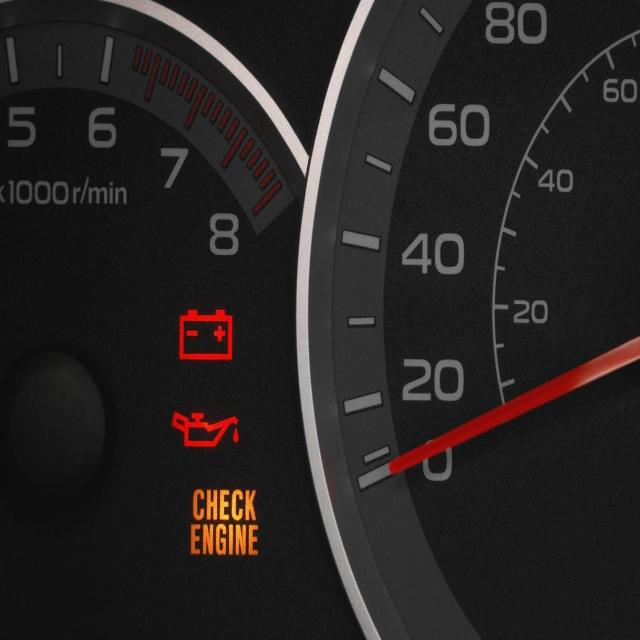kontrolka: (184, 482, 265, 562), (168, 302, 242, 372), (167, 402, 247, 450)
